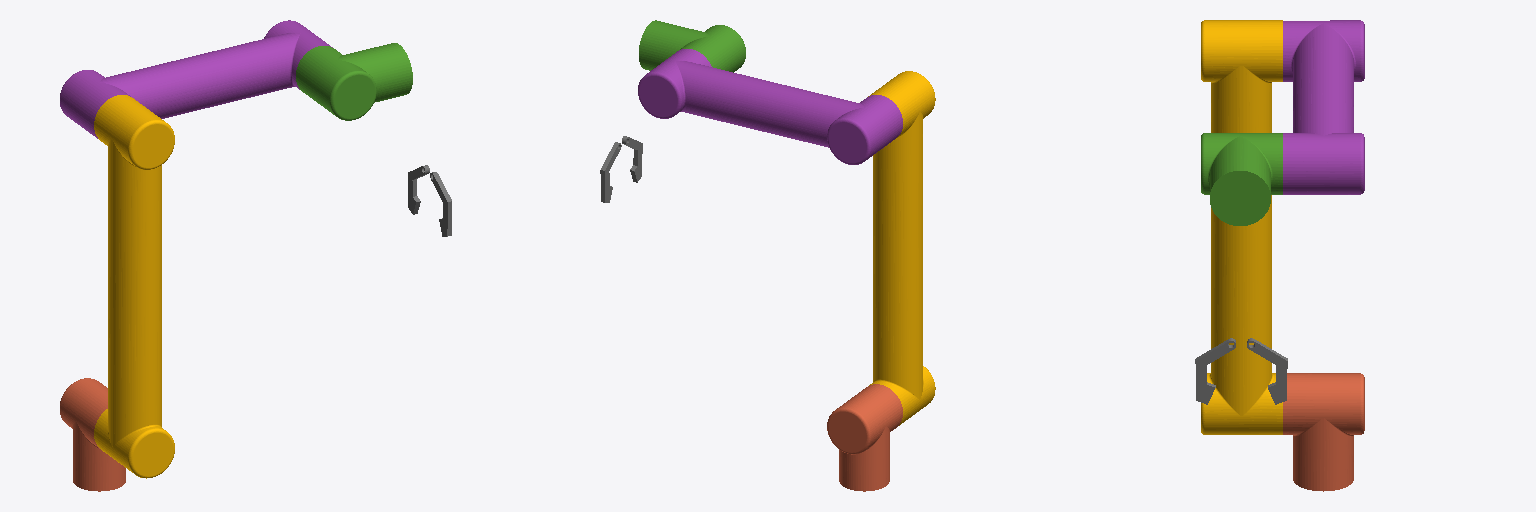
The robot description file, URDF, robot "sixdof_arm":
<?xml version="1.0" ?>
<!-- =================================================================================== -->
<!-- |    This document was autogenerated by xacro from mobile_base.urdf.xacro         | -->
<!-- |    EDITING THIS FILE BY HAND IS NOT RECOMMENDED                                 | -->
<!-- =================================================================================== -->
<robot name="sixdof_arm">
  <ros2_control name="GazeboSimSystem" type="system">
    <hardware>
      <plugin>gazebo_ros2_control/GazeboSystem</plugin>
    </hardware>
    <joint name="base_arm1_joint">
      <command_interface name="position">
        <param name="min">0</param>
        <param name="max">3.141592653589793</param>
      </command_interface>
      <command_interface name="velocity">
        <param name="min">-1</param>
        <param name="max">1</param>
      </command_interface>
      <state_interface name="position">
        <param name="initial_value">0.0</param>
      </state_interface>
      <state_interface name="velocity">
        <param name="initial_value">0.0</param>
      </state_interface>
    </joint>
    <joint name="arm1_arm2_joint">
      <command_interface name="position">
        <param name="min">0</param>
        <param name="max">3.141592653589793</param>
      </command_interface>
      <command_interface name="velocity">
        <param name="min">-1</param>
        <param name="max">1</param>
      </command_interface>
      <state_interface name="position">
        <param name="initial_value">0.0</param>
      </state_interface>
      <state_interface name="velocity">
        <param name="initial_value">0.0</param>
      </state_interface>
    </joint>
    <joint name="arm2_arm3_joint">
      <command_interface name="position">
        <param name="min">0</param>
        <param name="max">3.141592653589793</param>
      </command_interface>
      <command_interface name="velocity">
        <param name="min">-1</param>
        <param name="max">1</param>
      </command_interface>
      <state_interface name="position">
        <param name="initial_value">0.0</param>
      </state_interface>
      <state_interface name="velocity">
        <param name="initial_value">0.0</param>
      </state_interface>
    </joint>
    <joint name="arm3_arm4_joint">
      <command_interface name="position">
        <param name="min">0</param>
        <param name="max">3.141592653589793</param>
      </command_interface>
      <command_interface name="velocity">
        <param name="min">0</param>
        <param name="max">1</param>
      </command_interface>
      <state_interface name="position">
        <param name="initial_value">0.0</param>
      </state_interface>
      <state_interface name="velocity">
        <param name="initial_value">0.0</param>
      </state_interface>
    </joint>
    <joint name="arm4_arm5_joint">
      <command_interface name="position">
        <param name="min">0</param>
        <param name="max">3.141592653589793</param>
      </command_interface>
      <command_interface name="velocity">
        <param name="min">0</param>
        <param name="max">1</param>
      </command_interface>
      <state_interface name="position">
        <param name="initial_value">0.0</param>
      </state_interface>
      <state_interface name="velocity">
        <param name="initial_value">0.0</param>
      </state_interface>
    </joint>
    <joint name="arm5_arm6_joint">
      <command_interface name="position">
        <param name="min">0</param>
        <param name="max">3.141592653589793</param>
      </command_interface>
      <command_interface name="velocity">
        <param name="min">0</param>
        <param name="max">1</param>
      </command_interface>
      <state_interface name="position">
        <param name="initial_value">0.0</param>
      </state_interface>
      <state_interface name="velocity">
        <param name="initial_value">0.0</param>
      </state_interface>
    </joint>
    <joint name="arm6_gripper1_joint">
      <command_interface name="position">
        <param name="min">-0.7853981633974483</param>
        <param name="max">-1.5707963267948966</param>
      </command_interface>
      <command_interface name="velocity">
        <param name="min">0</param>
        <param name="max">1</param>
      </command_interface>
      <state_interface name="position">
        <param name="initial_value">0.0</param>
      </state_interface>
      <state_interface name="velocity">
        <param name="initial_value">0.0</param>
      </state_interface>
    </joint>
    <joint name="arm6_gripper2_joint">
      <command_interface name="position">
        <param name="min">1.5707963267948966</param>
        <param name="max">2.356194490192345</param>
      </command_interface>
      <command_interface name="velocity">
        <param name="min">0</param>
        <param name="max">1</param>
      </command_interface>
      <state_interface name="position">
        <param name="initial_value">0.0</param>
      </state_interface>
      <state_interface name="velocity">
        <param name="initial_value">0.0</param>
      </state_interface>
    </joint>
  </ros2_control>
  <gazebo>
    <plugin filename="libgazebo_ros2_control.so" name="gazebo_ros2_control">
      <parameters>[local-path]/rl_6dof_ws/install/sixdof_arm_description/share/sixdof_arm_description/config/sixdof_arm_controllers.yaml</parameters>
    </plugin>
  </gazebo>
  <material name="light_black">
    <color rgba="0.5 0.5 0.5 1.0"/>
  </material>
  <material name="salmon">
    <color rgba="0.8754 0.4471 0.3176 1.0"/>
  </material>
  <material name="yellow">
    <color rgba="1 0.7569 0.0549 1.0"/>
  </material>
  <material name="purple">
    <color rgba="0.6824 0.3333 0.7373 1.0"/>
  </material>
  <material name="green">
    <color rgba="0.3725 0.6549 0.2392 1.0"/>
  </material>
  <material name="blue">
    <color rgba="0.3686 0.2509 0.6431 1.0"/>
  </material>
  <material name="blue_tifany">
    <color rgba="0.5372 0.8549 0.8274 1.0"/>
  </material>
  <gazebo reference="base_link">
    <selfCollide>true</selfCollide>
    <visual>
      <material>
        <ambient>0.5 0.5 0.5</ambient>
        <diffuse>0.9 0.6 0.45 1</diffuse>
        <specular>0.95 0.95 0.95 1</specular>
        <emissive>0 0 0 0</emissive>
      </material>
      <mu1>0.2</mu1>
      <mu2>0.2</mu2>
      <self_collide>true</self_collide>
      <gravity>true</gravity>
    </visual>
  </gazebo>
  <gazebo reference="arm1_link">
    <selfCollide>true</selfCollide>
    <visual>
      <material>
        <ambient>0.8754 0.4471 0.3176</ambient>
        <diffuse>0.9 0.6 0.45 1</diffuse>
        <specular>0.95 0.95 0.95 1</specular>
        <emissive>0 0 0 0</emissive>
      </material>
      <mu1>0.2</mu1>
      <mu2>0.2</mu2>
      <self_collide>true</self_collide>
      <gravity>true</gravity>
    </visual>
  </gazebo>
  <gazebo reference="arm2_link">
    <selfCollide>true</selfCollide>
    <visual>
      <material>
        <ambient>1 0.7569 0.0549</ambient>
        <diffuse>0.9 0.6 0.45 1</diffuse>
        <specular>0.95 0.95 0.95 1</specular>
        <emissive>0 0 0 0</emissive>
      </material>
      <mu1>0.2</mu1>
      <mu2>0.2</mu2>
      <self_collide>true</self_collide>
      <gravity>true</gravity>
    </visual>
  </gazebo>
  <gazebo reference="arm3_link">
    <selfCollide>true</selfCollide>
    <visual>
      <material>
        <ambient>0.6824 0.3333 0.7373</ambient>
        <diffuse>0.9 0.6 0.45 1</diffuse>
        <specular>0.95 0.95 0.95 1</specular>
        <emissive>0 0 0 0</emissive>
      </material>
      <mu1>0.2</mu1>
      <mu2>0.2</mu2>
      <self_collide>true</self_collide>
      <gravity>true</gravity>
    </visual>
  </gazebo>
  <gazebo reference="arm4_link">
    <selfCollide>true</selfCollide>
    <visual>
      <material>
        <ambient>0.3725 0.6549 0.2392</ambient>
        <diffuse>0.9 0.6 0.45 1</diffuse>
        <specular>0.95 0.95 0.95 1</specular>
        <emissive>0 0 0 0</emissive>
      </material>
      <mu1>0.2</mu1>
      <mu2>0.2</mu2>
      <self_collide>true</self_collide>
      <gravity>true</gravity>
    </visual>
  </gazebo>
  <gazebo reference="arm5_link">
    <selfCollide>true</selfCollide>
    <visual>
      <material>
        <ambient>0.3686 0.2509 0.6431</ambient>
        <diffuse>0.9 0.6 0.45 1</diffuse>
        <specular>0.95 0.95 0.95 1</specular>
        <emissive>0 0 0 0</emissive>
      </material>
      <mu1>0.2</mu1>
      <mu2>0.2</mu2>
      <self_collide>true</self_collide>
      <gravity>true</gravity>
    </visual>
  </gazebo>
  <gazebo reference="arm6_link">
    <selfCollide>true</selfCollide>
    <visual>
      <material>
        <ambient>0.5372 0.8549 0.8274</ambient>
        <diffuse>0.9 0.6 0.45 1</diffuse>
        <specular>0.95 0.95 0.95 1</specular>
        <emissive>0 0 0 0</emissive>
      </material>
      <mu1>0.2</mu1>
      <mu2>0.2</mu2>
      <self_collide>true</self_collide>
      <gravity>true</gravity>
    </visual>
  </gazebo>
  <gazebo reference="gripper1_link">
    <selfCollide>true</selfCollide>
    <visual>
      <material>
        <ambient>0.5 0.5 0.5</ambient>
        <diffuse>0.9 0.6 0.45 1</diffuse>
        <specular>0.95 0.95 0.95 1</specular>
        <emissive>0 0 0 0</emissive>
      </material>
      <mu1>0.2</mu1>
      <mu2>0.2</mu2>
      <self_collide>true</self_collide>
      <gravity>true</gravity>
    </visual>
  </gazebo>
  <gazebo reference="gripper2_link">
    <selfCollide>true</selfCollide>
    <visual>
      <material>
        <ambient>0.5 0.5 0.5</ambient>
        <diffuse>0.9 0.6 0.45 1</diffuse>
        <specular>0.95 0.95 0.95 1</specular>
        <emissive>0 0 0 0</emissive>
      </material>
      <mu1>0.2</mu1>
      <mu2>0.2</mu2>
      <self_collide>true</self_collide>
      <gravity>true</gravity>
    </visual>
  </gazebo>
  <link name="base_link">
    <visual>
      <geometry>
        <mesh filename="package://sixdof_arm_description/meshes/sixdof_arm/base_link.stl" scale="1 1 1"/>
      </geometry>
      <origin rpy="0 0 0" xyz="0 0 0.04"/>
      <material name="light_black"/>
    </visual>
    <inertial>
      <origin rpy="0 0 0" xyz="0 2.679e-8 0.01026544"/>
      <mass value="10.6734184"/>
      <inertia ixx="0.05702778" ixy="0" ixz="0" iyy="0.05702779" iyz="0" izz="0.10703462"/>
    </inertial>
    <collision>
      <geometry>
        <cylinder length="0.07" radius="0.15"/>
      </geometry>
      <origin rpy="0 0 0" xyz="0 0 0.035"/>
    </collision>
  </link>
  <link name="arm1_link">
    <visual>
      <geometry>
        <mesh filename="package://sixdof_arm_description/meshes/sixdof_arm/link_1.stl" scale="1 1 1"/>
      </geometry>
      <origin rpy="0 0 0" xyz="0 0 0"/>
      <material name="salmon"/>
    </visual>
    <inertial>
      <origin rpy="0 0 0" xyz="0 -0.00016159 0.14671717"/>
      <mass value="16.02392927"/>
      <inertia ixx="0.13097774" ixy="-1.354e-8" ixz="0" iyy="0.11390137" iyz="0.00013796" izz="0.06378491"/>
    </inertial>
    <collision>
      <geometry>
        <box size="0.15 0.20 0.275"/>
      </geometry>
      <origin rpy="0 0 0" xyz="0 0 0.1375"/>
    </collision>
  </link>
  <link name="arm2_link">
    <visual>
      <geometry>
        <mesh filename="package://sixdof_arm_description/meshes/sixdof_arm/link_2.stl" scale="1 1 1"/>
      </geometry>
      <origin rpy="0 0 -1.5707963267948966" xyz="0 0 0"/>
      <material name="yellow"/>
    </visual>
    <inertial>
      <origin rpy="0 0 -1.5707963267948966" xyz="-0.00008884 0 0.47100021"/>
      <mass value="58.29018559"/>
      <inertia ixx="6.62579145" ixy="0.0000054" ixz="0" iyy="6.65994246" iyz="-4e-8" izz="0.20137485"/>
    </inertial>
    <collision>
      <geometry>
        <box size="0.15 0.20 1.10"/>
      </geometry>
      <origin rpy="0 0 0" xyz="0 0 0.475"/>
    </collision>
  </link>
  <link name="arm3_link">
    <visual>
      <geometry>
        <mesh filename="package://sixdof_arm_description/meshes/sixdof_arm/link_3.stl" scale="1 1 1"/>
      </geometry>
      <origin rpy="0 1.5707963267948966 0" xyz="0 0 0"/>
      <material name="purple"/>
    </visual>
    <inertial>
      <origin rpy="0 1.5707963267948966 0" xyz="0.325 0 -0.00011793"/>
      <mass value="43.97624328"/>
      <inertia ixx="0.16111702" ixy="0" ixz="-9.935e-8" iyy="2.67279881" iyz="5.713e-9" izz="2.70695549"/>
    </inertial>
    <collision>
      <geometry>
        <box size="0.15 0.20 0.80"/>
      </geometry>
      <origin rpy="0 1.5707963267948966 0" xyz="0.325 0 0"/>
    </collision>
  </link>
  <link name="arm4_link">
    <visual>
      <geometry>
        <mesh filename="package://sixdof_arm_description/meshes/sixdof_arm/link_4.stl" scale="1 1 1"/>
      </geometry>
      <origin rpy="3.141592653589793 0 0" xyz="0 0 0"/>
      <material name="green"/>
    </visual>
    <inertial>
      <origin rpy="3.141592653589793 0 0" xyz="0 0.0010614 -0.05328286"/>
      <mass value="16.02394366"/>
      <inertia ixx="0.13101946" ixy="1.335e-8" ixz="-2.826e-9" iyy="0.11390118" iyz="-0.00166483" izz="0.06382633"/>
    </inertial>
    <collision>
      <geometry>
        <box size="0.15 0.20 0.275"/>
      </geometry>
      <origin rpy="0 0 0" xyz="0 0 -0.0625"/>
    </collision>
  </link>
  <link name="arm5_link">
    <visual>
      <geometry>
        <mesh filename="package://sixdof_arm_description/meshes/sixdof_arm/link_5.stl" scale="1 1 1"/>
      </geometry>
      <origin rpy="3.141592653589793 0 3.141592653589793" xyz="0 0 0"/>
      <material name="blue"/>
    </visual>
    <inertial>
      <origin rpy="3.141592653589793 0 3.141592653589793" xyz="-0.0002301 0 -0.08772699"/>
      <mass value="11.25261767"/>
      <inertia ixx="0.03965941" ixy="2.335e-9" ixz="0.00003178" iyy="0.05673546" iyz="-6.760e-10" izz="0.05036553"/>
    </inertial>
    <collision>
      <geometry>
        <box size="0.20 0.15 0.175"/>
      </geometry>
      <origin rpy="0 0 0" xyz="0 0 -0.0875"/>
    </collision>
  </link>
  <link name="arm6_link">
    <visual>
      <geometry>
        <mesh filename="package://sixdof_arm_description/meshes/sixdof_arm/link_6.stl" scale="1 1 1"/>
      </geometry>
      <origin rpy="0 0 0" xyz="0 0 0"/>
      <material name="blue_tifany"/>
    </visual>
    <inertial>
      <origin rpy="0 0 0" xyz="0 0 0.10531595"/>
      <mass value="9.94813346"/>
      <inertia ixx="0.05211159" ixy="0" ixz="0" iyy="0.05197757" iyz="0" izz="0.02702159"/>
    </inertial>
    <collision>
      <geometry>
        <box size="0.15 0.15 0.20"/>
      </geometry>
      <origin rpy="0 0 0" xyz="0 0 0.10"/>
    </collision>
  </link>
  <link name="gripper1_link">
    <visual>
      <geometry>
        <mesh filename="package://sixdof_arm_description/meshes/sixdof_arm/gripper.stl" scale="1 1 1"/>
      </geometry>
      <origin rpy="0 1.5707963267948966 0" xyz="0 0 0"/>
      <material name="light_black"/>
    </visual>
    <inertial>
      <origin rpy="0 0 0" xyz="-0.0075 0.090250025 0.027995235"/>
      <mass value="0.23129816"/>
      <inertia ixx="0.00058838" ixy="-0.00002395" ixz="0" iyy="0.00007385" iyz="0" izz="0.00065355"/>
    </inertial>
    <collision>
      <geometry>
        <box size="0.015 0.16050005 0.07295455"/>
      </geometry>
      <origin rpy="0 0 0" xyz="-0.0075 0.090250025 0.027995235"/>
    </collision>
  </link>
  <link name="gripper2_link">
    <visual>
      <geometry>
        <mesh filename="package://sixdof_arm_description/meshes/sixdof_arm/gripper.stl" scale="1 1 1"/>
      </geometry>
      <origin rpy="0 1.5707963267948966 0" xyz="0 0 0"/>
      <material name="light_black"/>
    </visual>
    <inertial>
      <origin rpy="0 0 0" xyz="-0.0075 0.090250025 0.027995235"/>
      <mass value="0.23129816"/>
      <inertia ixx="0.00058838" ixy="-0.00002395" ixz="0" iyy="0.00007385" iyz="0" izz="0.00065355"/>
    </inertial>
    <collision name="gripper2_link_collision">
      <geometry>
        <box size="0.015 0.16050005 0.07295455"/>
      </geometry>
      <origin rpy="0 0 0" xyz="-0.0075 0.090250025 0.027995235"/>
    </collision>
  </link>
  <link name="world"/>
  <joint name="world_base_joint" type="fixed">
    <origin rpy="0 0 0" xyz="0 0 0"/>
    <parent link="world"/>
    <child link="base_link"/>
  </joint>
  <joint name="base_arm1_joint" type="revolute">
    <parent link="base_link"/>
    <child link="arm1_link"/>
    <origin rpy="0 0 0" xyz="0 0 0.07"/>
    <axis xyz="0 0 1"/>
    <limit effort="10" lower="0" upper="3.141592653589793" velocity="1.0"/>
  </joint>
  <joint name="arm1_arm2_joint" type="revolute">
    <parent link="arm1_link"/>
    <child link="arm2_link"/>
    <origin rpy="0 0 0" xyz="0 -0.20 0.20"/>
    <axis xyz="0 1 0"/>
    <limit effort="100" lower="0" upper="3.141592653589793" velocity="1.0"/>
  </joint>
  <joint name="arm2_arm3_joint" type="revolute">
    <parent link="arm2_link"/>
    <child link="arm3_link"/>
    <origin rpy="0 0 0" xyz="0 0.20 0.95"/>
    <axis xyz="0 1 0"/>
    <limit effort="10" lower="0" upper="3.141592653589793" velocity="1.0"/>
  </joint>
  <joint name="arm3_arm4_joint" type="revolute">
    <parent link="arm3_link"/>
    <child link="arm4_link"/>
    <origin rpy="0 -1.5707963267948966 0" xyz="0.65 -0.20 0"/>
    <axis xyz="0 1 0"/>
    <limit effort="10" lower="0" upper="3.141592653589793" velocity="1.0"/>
  </joint>
  <joint name="arm4_arm5_joint" type="revolute">
    <parent link="arm4_link"/>
    <child link="arm5_link"/>
    <origin rpy="0 0 3.141592653589793" xyz="0 0 -0.20"/>
    <axis xyz="0 0 1"/>
    <limit effort="10" lower="0" upper="3.141592653589793" velocity="1.0"/>
  </joint>
  <joint name="arm5_arm6_joint" type="revolute">
    <parent link="arm5_link"/>
    <child link="arm6_link"/>
    <origin rpy="0 1.5707963267948966 0" xyz="0.10 0 -0.1"/>
    <axis xyz="0 0 1"/>
    <limit effort="10" lower="0" upper="3.141592653589793" velocity="1.0"/>
  </joint>
  <joint name="arm6_gripper1_joint" type="revolute">
    <parent link="arm6_link"/>
    <child link="gripper1_link"/>
    <origin rpy="0 3.141592653589793 0" xyz="-0.0075 0.025 0.245"/>
    <axis xyz="1 0 0"/>
    <limit effort="10" lower="-0.7853981633974483" upper="-1.5707963267948966" velocity="1.0"/>
  </joint>
  <joint name="arm6_gripper2_joint" type="revolute">
    <parent link="arm6_link"/>
    <child link="gripper2_link"/>
    <origin rpy="0 0 0" xyz="0.0075 -0.025 0.245"/>
    <axis xyz="1 0 0"/>
    <limit effort="10" lower="1.5707963267948966" upper="2.356194490192345" velocity="1.0"/>
  </joint>
  <transmission name="transmission_base_arm1">
    <type>transmission_interface/SimpleTransmission</type>
    <joint name="base_arm1_joint">
      <hardwareInterface>velocity</hardwareInterface>
    </joint>
  </transmission>
  <transmission name="transmission_arm1_arm2_joint">
    <type>transmission_interface/SimpleTransmission</type>
    <joint name="arm1_arm2_joint">
      <hardwareInterface>velocity</hardwareInterface>
    </joint>
  </transmission>
  <transmission name="transmission_arm2_arm3_joint">
    <type>transmission_interface/SimpleTransmission</type>
    <joint name="arm2_arm3_joint">
      <hardwareInterface>velocity</hardwareInterface>
    </joint>
  </transmission>
  <transmission name="transmission_arm3_arm4_joint">
    <type>transmission_interface/SimpleTransmission</type>
    <joint name="arm3_arm4_joint">
      <hardwareInterface>velocity</hardwareInterface>
    </joint>
  </transmission>
  <transmission name="transmission_arm4_arm5_joint">
    <type>transmission_interface/SimpleTransmission</type>
    <joint name="arm4_arm5_joint">
      <hardwareInterface>velocity</hardwareInterface>
    </joint>
  </transmission>
  <transmission name="transmission_arm5_arm6_joint">
    <type>transmission_interface/SimpleTransmission</type>
    <joint name="arm5_arm6_joint">
      <hardwareInterface>velocity</hardwareInterface>
    </joint>
  </transmission>
  <transmission name="transmission_arm6_gripper1_joint">
    <type>transmission_interface/SimpleTransmission</type>
    <joint name="arm6_gripper1_joint">
      <hardwareInterface>velocity</hardwareInterface>
    </joint>
  </transmission>
  <transmission name="transmission_arm6_gripper2_joint">
    <type>transmission_interface/SimpleTransmission</type>
    <joint name="arm6_gripper2_joint">
      <hardwareInterface>velocity</hardwareInterface>
    </joint>
  </transmission>
  <gazebo reference="gripper2_link">
    <sensor name="bumper" type="contact">
      <always_on>true</always_on>
      <update_rate>50</update_rate>
      <contact>
        <collision>gripper2_link_collision</collision>
        <topic>gripper2_contact</topic>
      </contact>
      <plugin filename="libgazebo_ros_bumper.so" name="contact_plugin">
        <alwaysOn>true</alwaysOn>
        <update_rate>100.0</update_rate>
        <frameName>gripper2_link</frameName>
        <bumperTopicName>/sh/contacts/gripper2_link_contact</bumperTopicName>
      </plugin>
    </sensor>
  </gazebo>
</robot>

--- Render facts (derived) ---
3 views of the same robot in one strip: view 1: azimuth 30°, elevation 25°; view 2: azimuth 150°, elevation 25°; view 3: azimuth 270°, elevation 25° (orthographic).
Robot: sixdof_arm — 10 links, 9 joints (8 revolute, 1 fixed); root link world; default pose: all joints at 0 but 2 set to mid-range because 0 is outside their limits (arm6_gripper1_joint = -1.18, arm6_gripper2_joint = 1.96).
Links seen in each view (by area): view 1: arm2_link, arm3_link, arm4_link, arm1_link, gripper1_link, gripper2_link; view 2: arm2_link, arm3_link, arm1_link, arm4_link, gripper2_link; view 3: arm2_link, arm3_link, arm1_link, arm4_link, gripper1_link, gripper2_link.
Boxes of the visible links, box(x1,y1,x2,y2) form: arm2_link: box(94, 95, 174, 478); arm3_link: box(60, 20, 332, 138); arm4_link: box(296, 43, 412, 120); arm1_link: box(60, 378, 125, 491); gripper1_link: box(430, 172, 451, 236); gripper2_link: box(408, 165, 429, 214); arm2_link: box(868, 71, 935, 425); arm3_link: box(638, 49, 902, 164); arm1_link: box(827, 384, 902, 491); arm4_link: box(639, 20, 745, 72); gripper2_link: box(600, 142, 621, 202); arm2_link: box(1201, 20, 1282, 434); arm3_link: box(1283, 20, 1364, 194); arm1_link: box(1283, 373, 1364, 491); arm4_link: box(1201, 133, 1282, 225); gripper1_link: box(1195, 338, 1235, 404); gripper2_link: box(1247, 338, 1287, 404).
Size in the robot's own frame: 1.03 by 0.4125 by 1.23 metres.
6 mesh visuals loaded from 8 distinct referenced files (5 binary STL); not drawn: 3 (file found but could not be loaded).